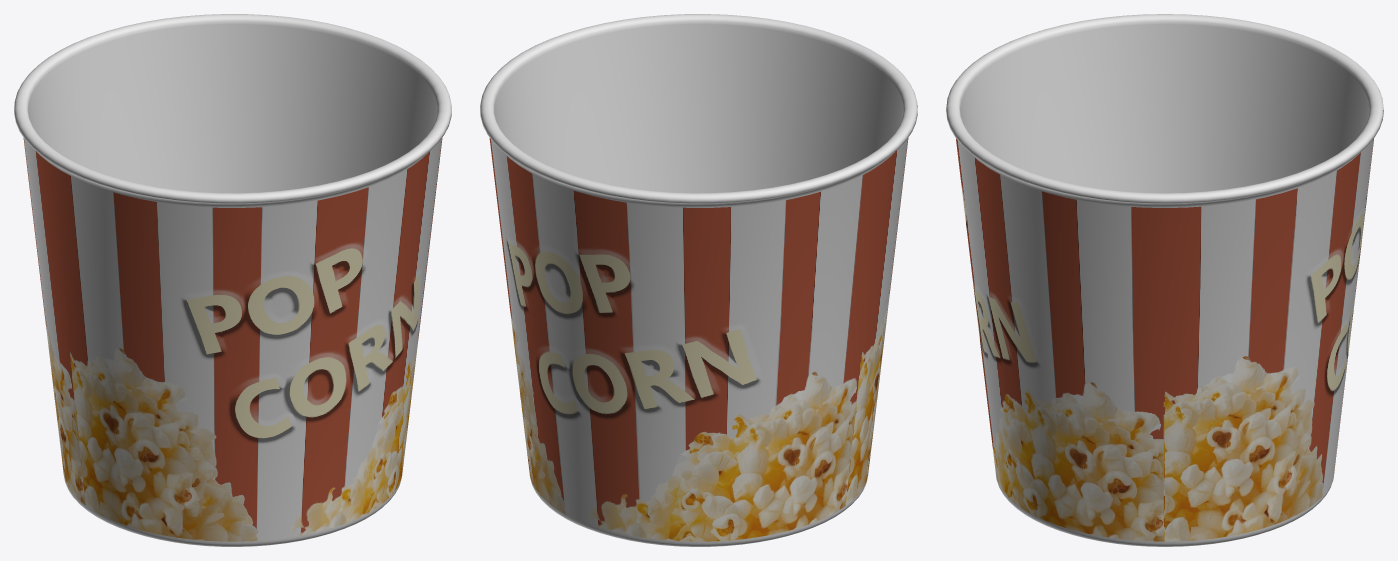
File: popcorn.fbx
3 renders of one model, left to right at view 1: azimuth 30°, elevation 25°; view 2: azimuth 150°, elevation 25°; view 3: azimuth 270°, elevation 25°, orthographic.
Visible parts, largest first — view 1: POP_CORN:Mesh; view 2: POP_CORN:Mesh; view 3: POP_CORN:Mesh.
Boxes of the visible parts, x1,y1,x2,y2 form: POP_CORN:Mesh: [14, 14, 451, 546]; POP_CORN:Mesh: [480, 14, 917, 546]; POP_CORN:Mesh: [946, 14, 1383, 546].
Size of the model in its own units: 2.67 by 2.51 by 2.67.
